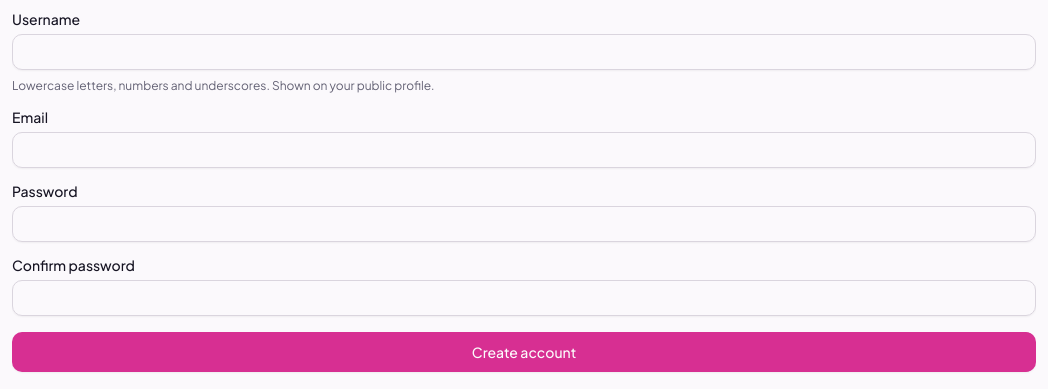
Test: SignupForm › asks the user to confirm their email after signing up
The width and height of the screenshot is (1048, 389).
Step 1. Type "prasad_ks" into the field labelled "Username" → [524, 52], box [12,34,1036,70]
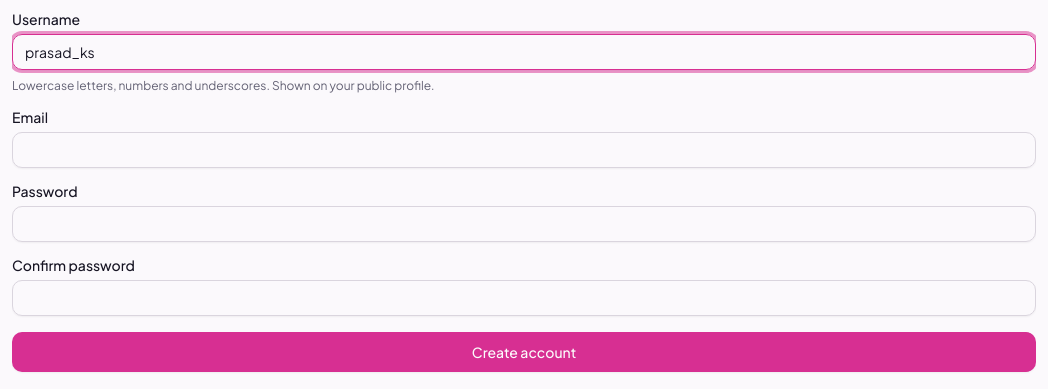
Step 2. Type "prasad@example.com" into the field labelled "Email" → [524, 150], box [12,132,1036,168]
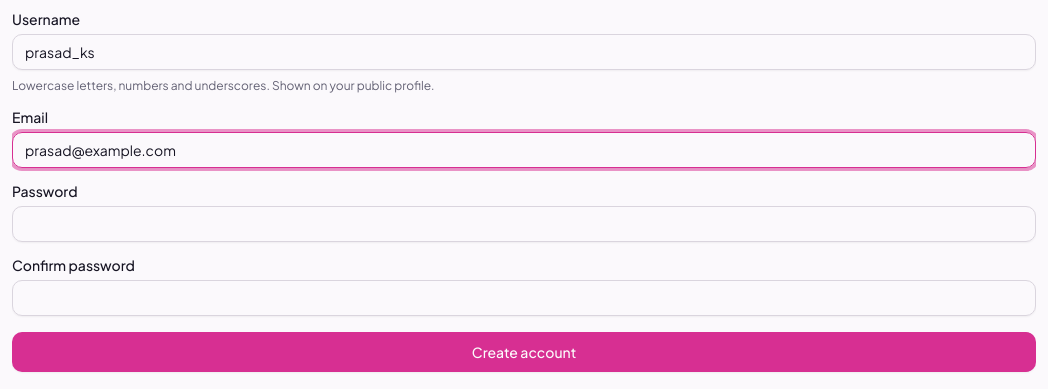
Step 3. Type "secret123" into the password field labelled "Password" → [524, 224], box [12,206,1036,242]
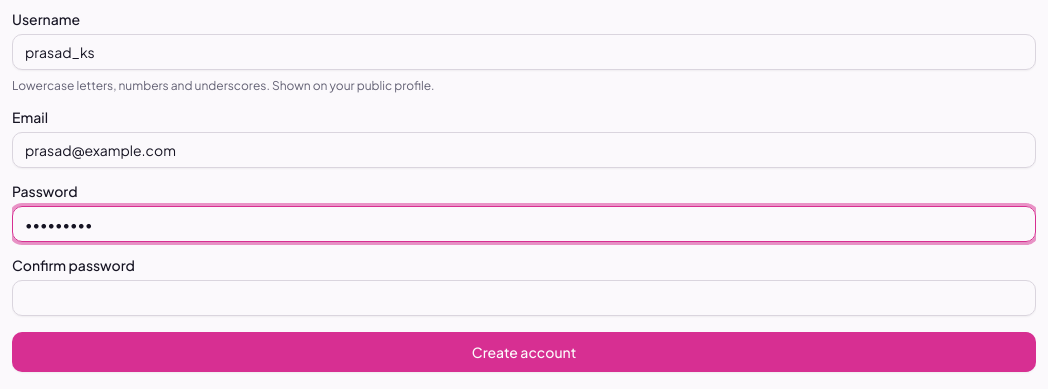
Step 4. Type "secret123" into the password field labelled "Confirm password" → [524, 298], box [12,280,1036,316]
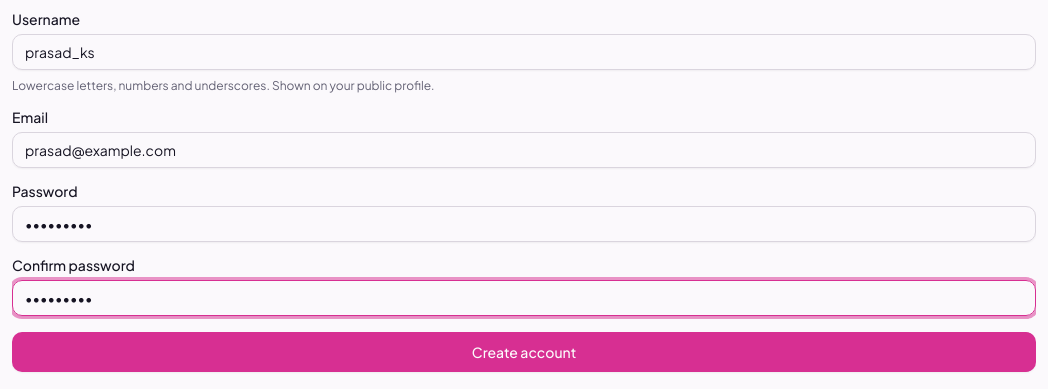
Step 5. Click the button "Create account" → [524, 352], box [12,332,1036,372]
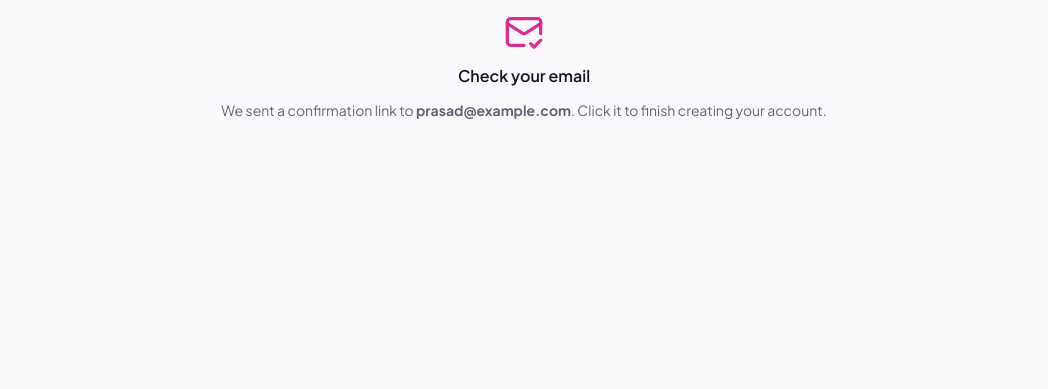
Check: the text "Check your email" is shown, box [458,65,590,86]
